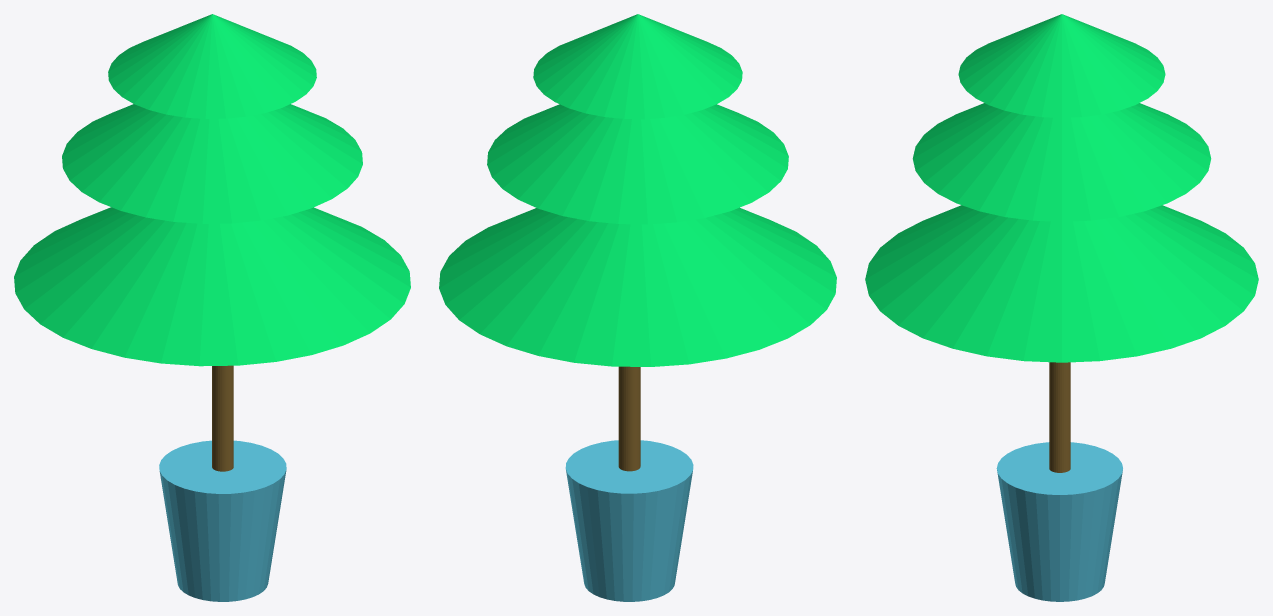
File: plant.glb
3 views of the same model, side by side, from view 1: azimuth 30°, elevation 25°; view 2: azimuth 150°, elevation 25°; view 3: azimuth 270°, elevation 25° (orthographic).
Visible parts, largest first — view 1: plant; view 2: plant; view 3: plant.
Part boxes in pixels (<box>): plant: <box>14,14,410,601</box>; plant: <box>439,14,836,601</box>; plant: <box>865,14,1258,601</box>.
Bounding box in the file's own units: 6.23 × 9.85 × 6.23.
